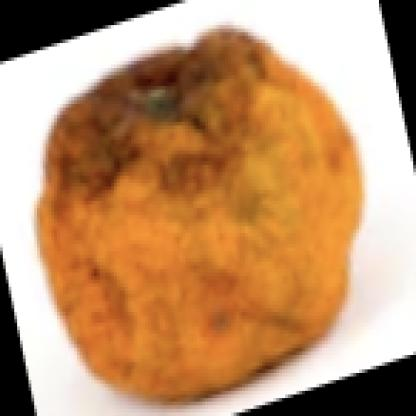rotten: (37, 30, 364, 401)
